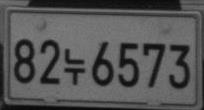2: (39, 39, 60, 84)
3: (168, 43, 190, 89)
5: (117, 42, 139, 87)
6: (91, 41, 114, 87)
7: (142, 42, 165, 88)
8: (12, 38, 36, 83)
누: (64, 48, 86, 85)
